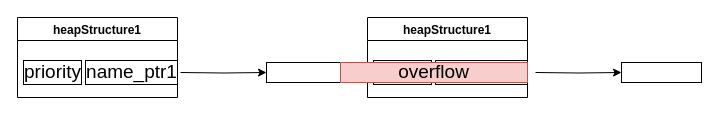
Some shapes in this 719 by 115 pixel diagram are drawn without their labels. The shapes that lost their labels are listed below. From the top down, each one's centre as x and y in pixels, then its label:
[306,72]: argv[1]
[661,72]: argv[2]
